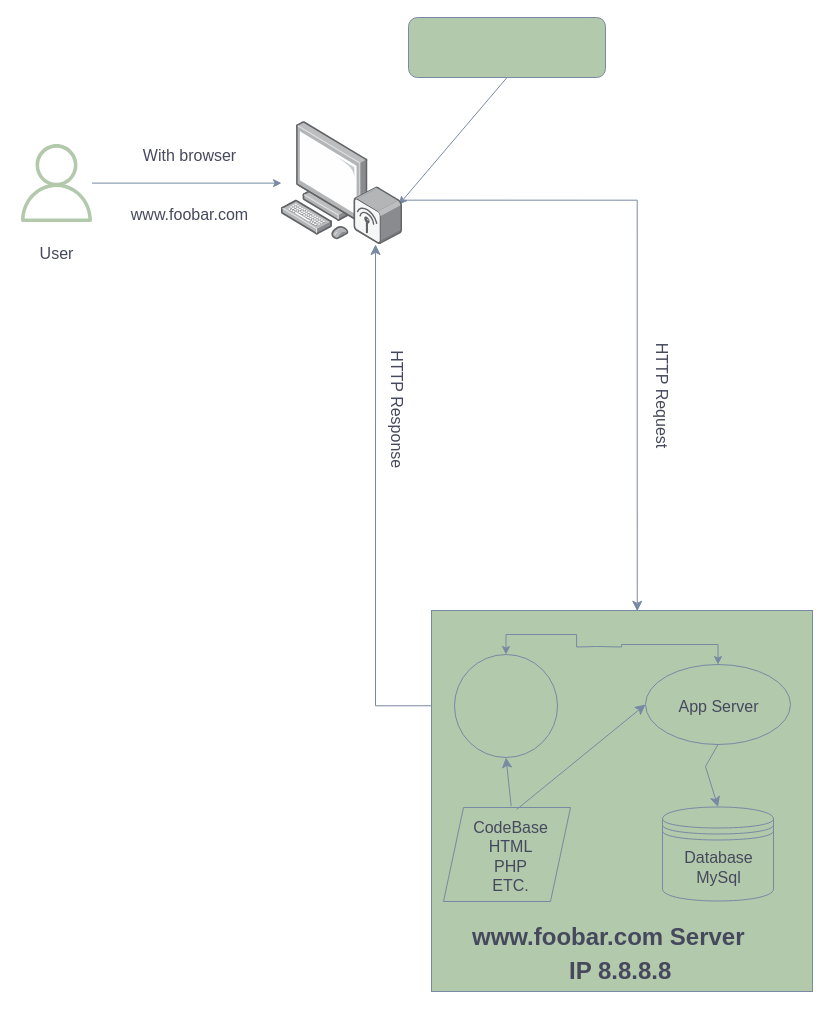
Some shapes in this 830 by 1009 pixel diagram are drawn without their labels. The shapes that lost their labels are listed below. From the top down, each one's centre as x and y in pixels, then its label:
pixel 507 47: DNS translates www.foobar.com to 8.8.8.8
pixel 506 706: Web Server: (Nginx)
